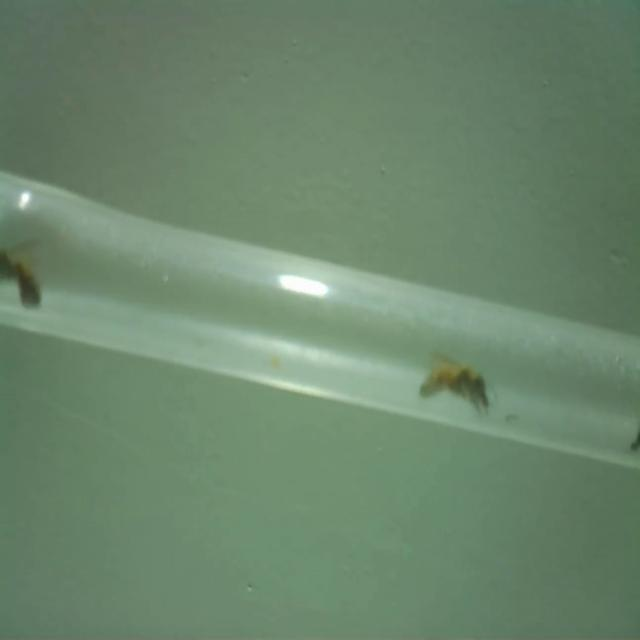Honeybee-Detection: (418, 350, 497, 414), (0, 232, 42, 310), (629, 415, 640, 456)
